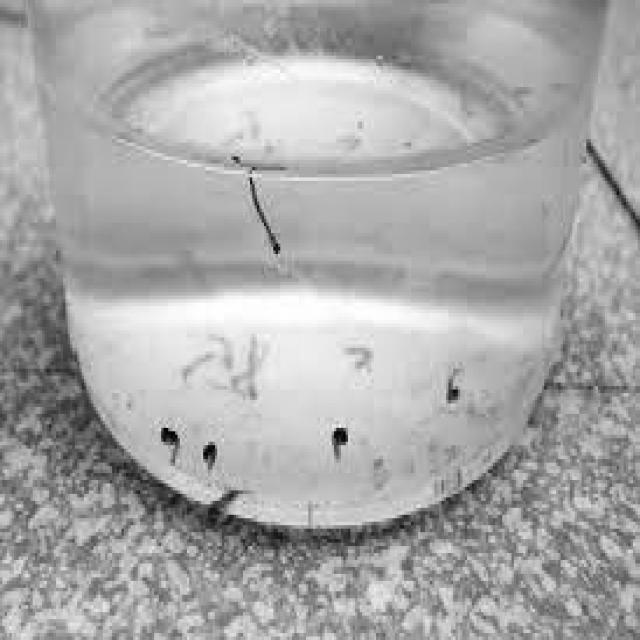larvas: (250, 177, 280, 254), (234, 155, 288, 172), (249, 338, 261, 402), (212, 337, 235, 369), (162, 425, 180, 463), (345, 347, 372, 372), (183, 356, 209, 381), (329, 421, 346, 459), (217, 490, 251, 506), (447, 366, 462, 402), (232, 372, 248, 402), (203, 443, 217, 472)
